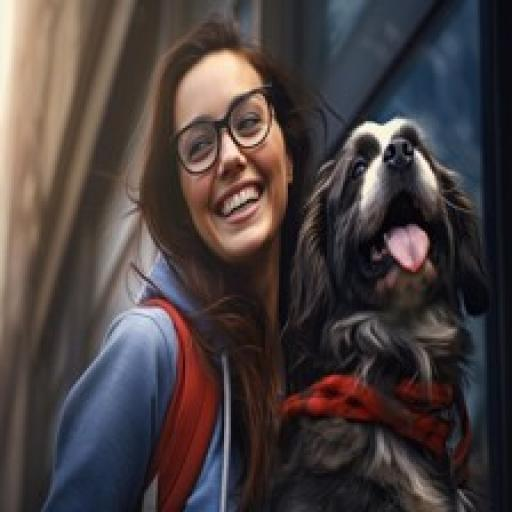human: (57, 25, 322, 512)
